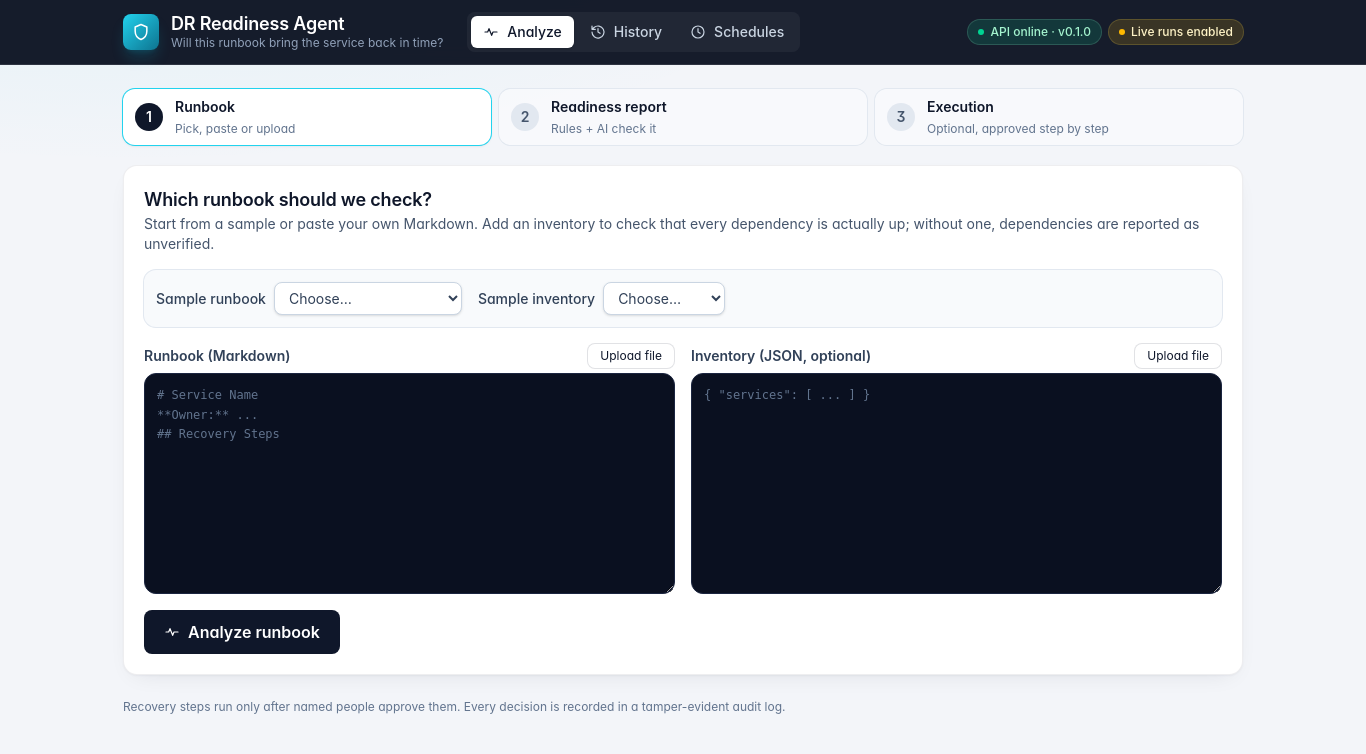
Scenario: App schedules tab › opens the Schedules tab from the header
The width and height of the screenshot is (1366, 754).
Click the button "Schedules" at (737,32), box [678,16,796,48]
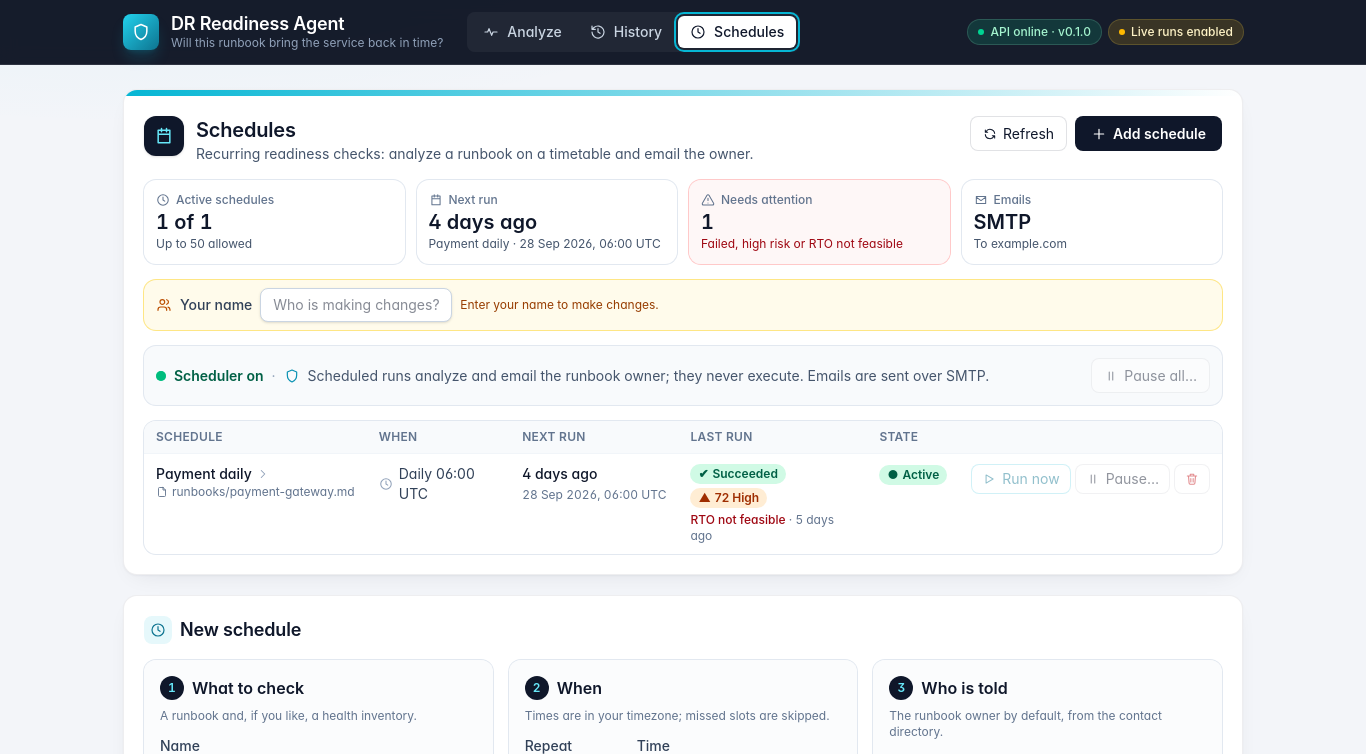
Result: the element "Schedules" is shown at [123,89,1243,575]
